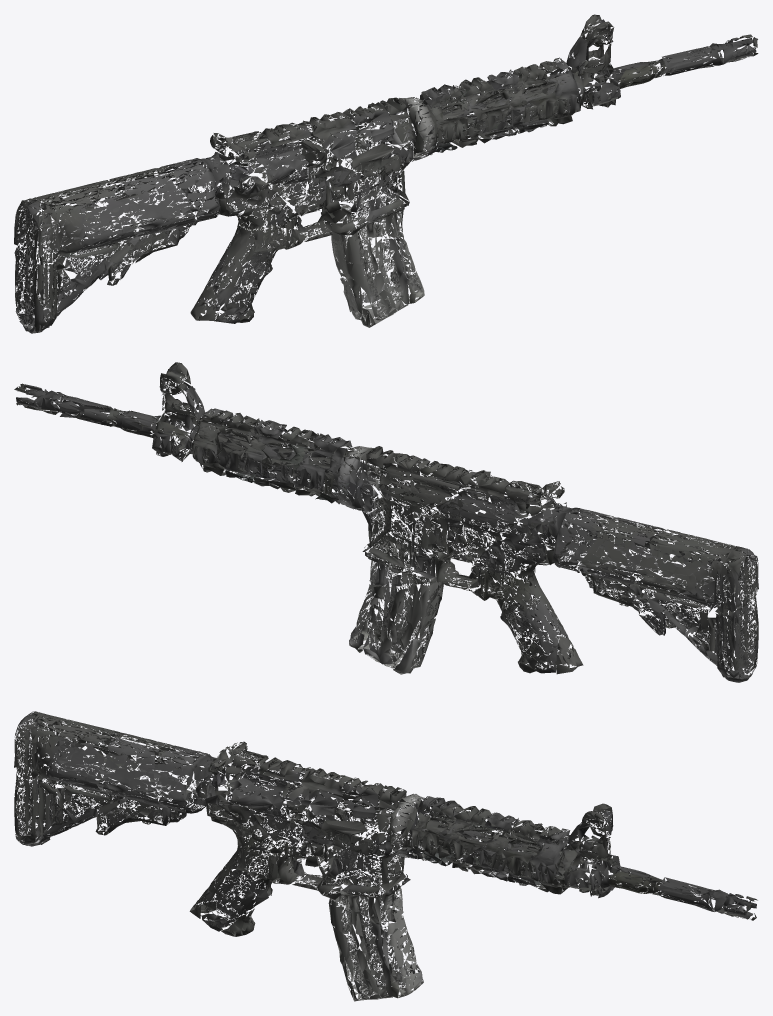
Rendered from gun3.glb.
3 renders of one model, top to bottom at view 1: azimuth 30°, elevation 25°; view 2: azimuth 150°, elevation 25°; view 3: azimuth 330°, elevation 25°, orthographic.
Parts seen in each view (by area): view 1: tripo_node_bccf3098; view 2: tripo_node_bccf3098; view 3: tripo_node_bccf3098.
Part boxes in pixels (x1,y1,x2,y2): tripo_node_bccf3098: (14, 14, 758, 333); tripo_node_bccf3098: (14, 362, 758, 682); tripo_node_bccf3098: (14, 711, 757, 1001).
Bounding box in the file's own units: 0.9984 × 0.3219 × 0.0953.
Materials: 1 (1 with a texture image).
